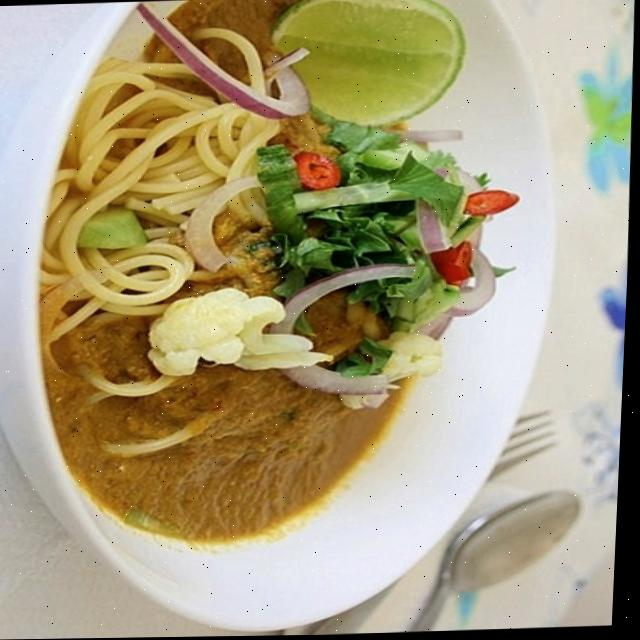面条主食: (0, 0, 566, 621)
